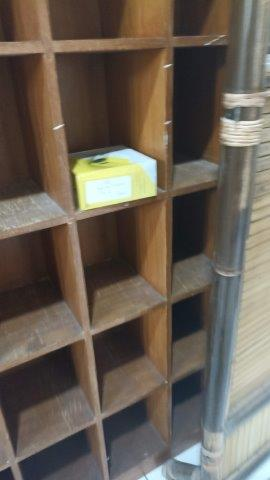kardus: (67, 146, 157, 208)
